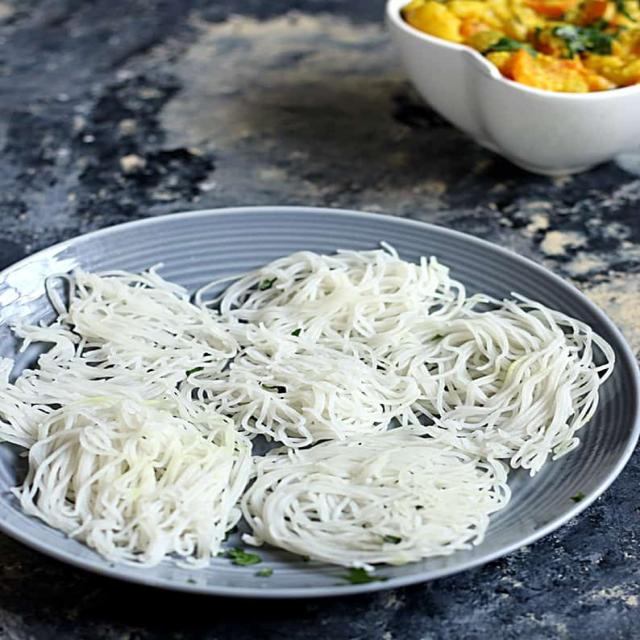IDIYAPPAM: (8, 384, 255, 569), (247, 430, 500, 568), (397, 313, 593, 478), (248, 243, 462, 358), (199, 348, 380, 443)
